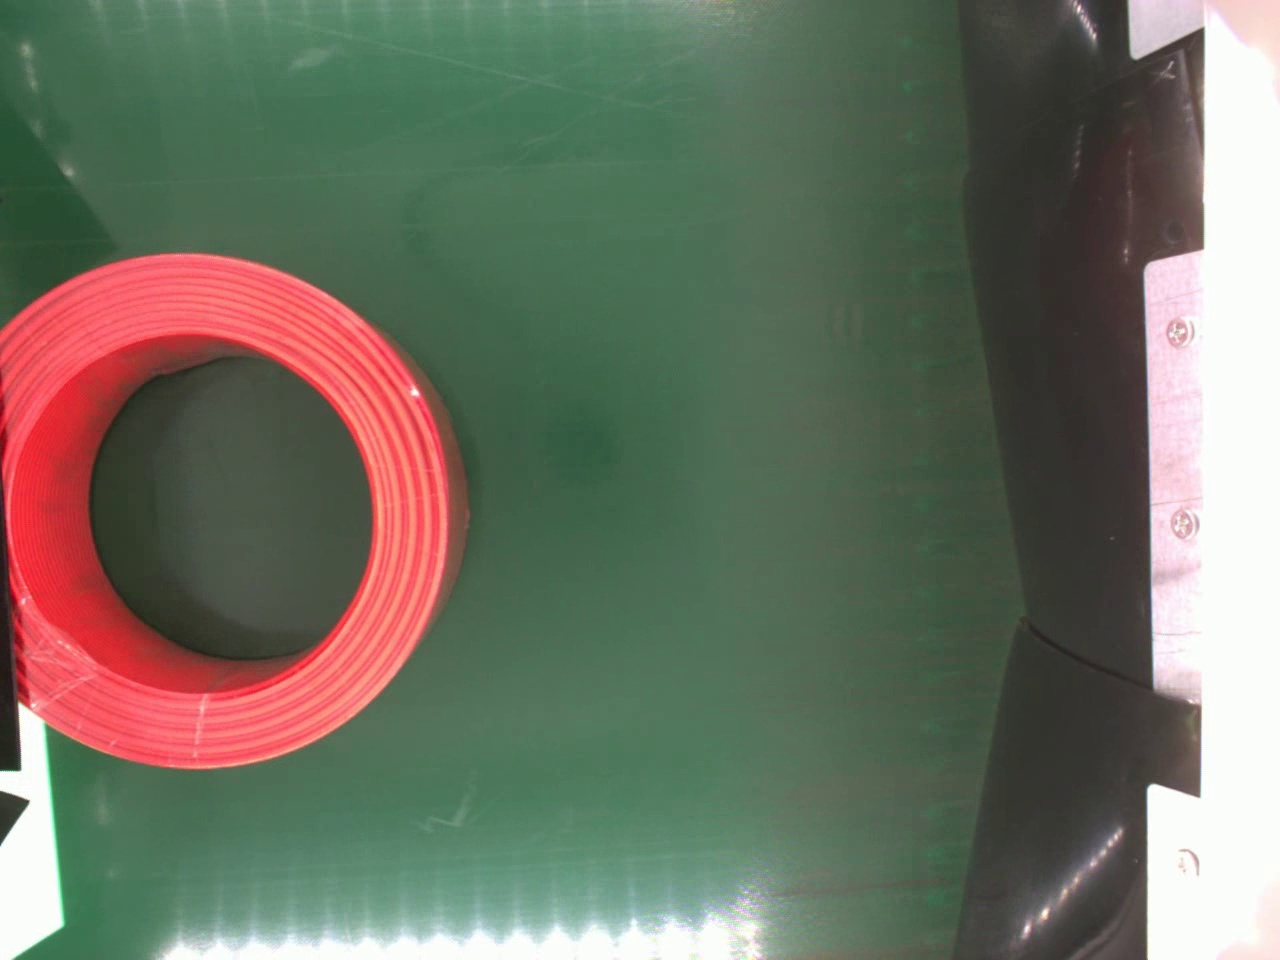red: (0, 249, 469, 775)
